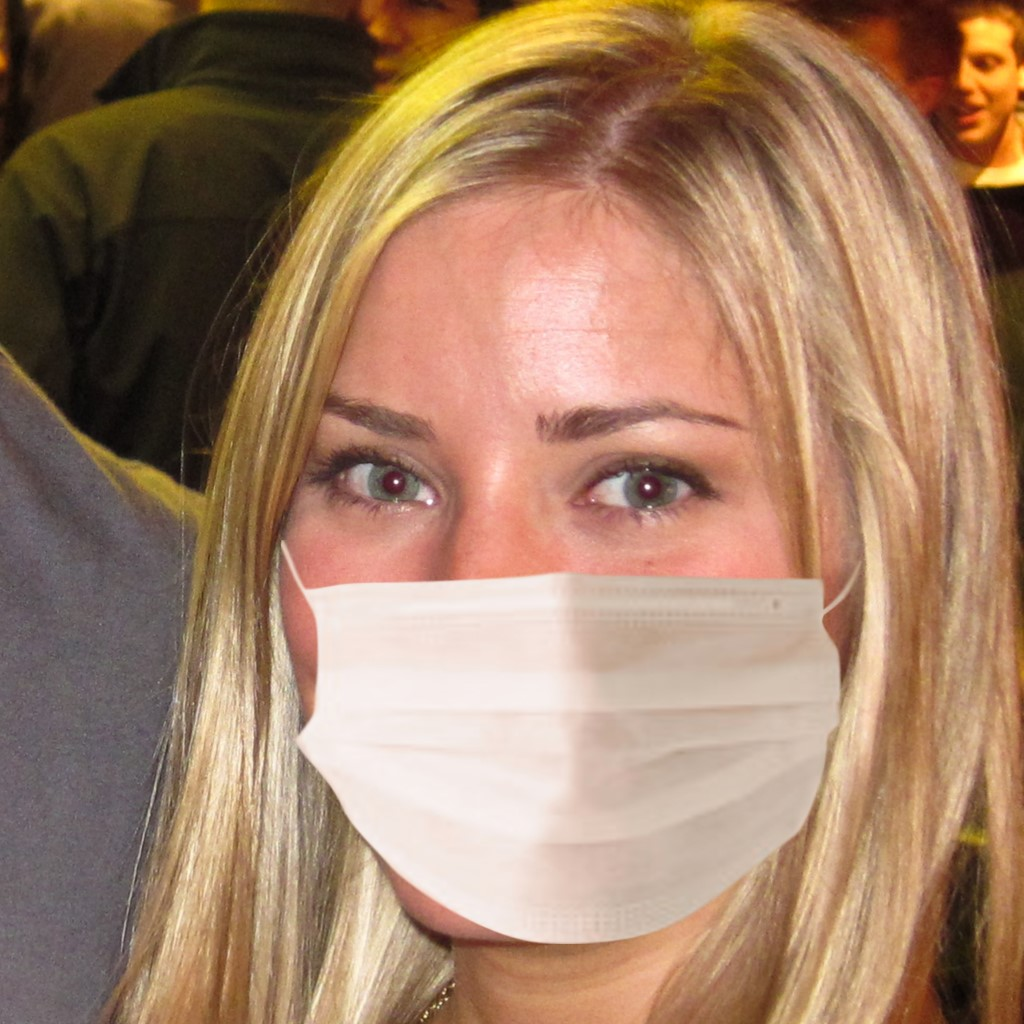con_mascara: (272, 180, 852, 905)
